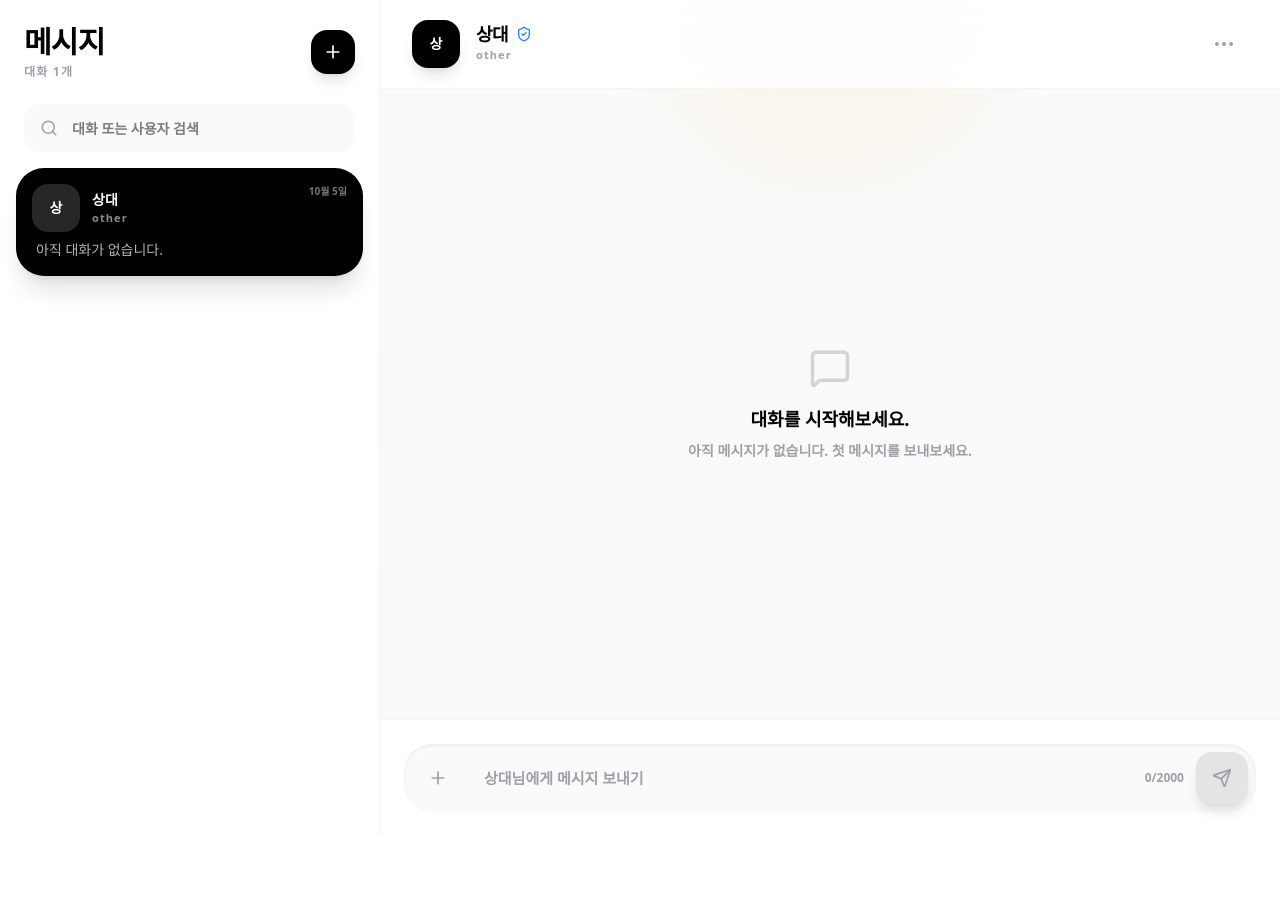
Scenario: MessagesPage 낙관적 전송 › 보내는 즉시 임시 메시지를 보여주고 연속 전송은 순서대로 하나씩 보낸다
The width and height of the screenshot is (1280, 900).
Type "첫째" into the field with placeholder "상대님에게 메시지 보내기" at (804, 778), box [476,767,1133,789]
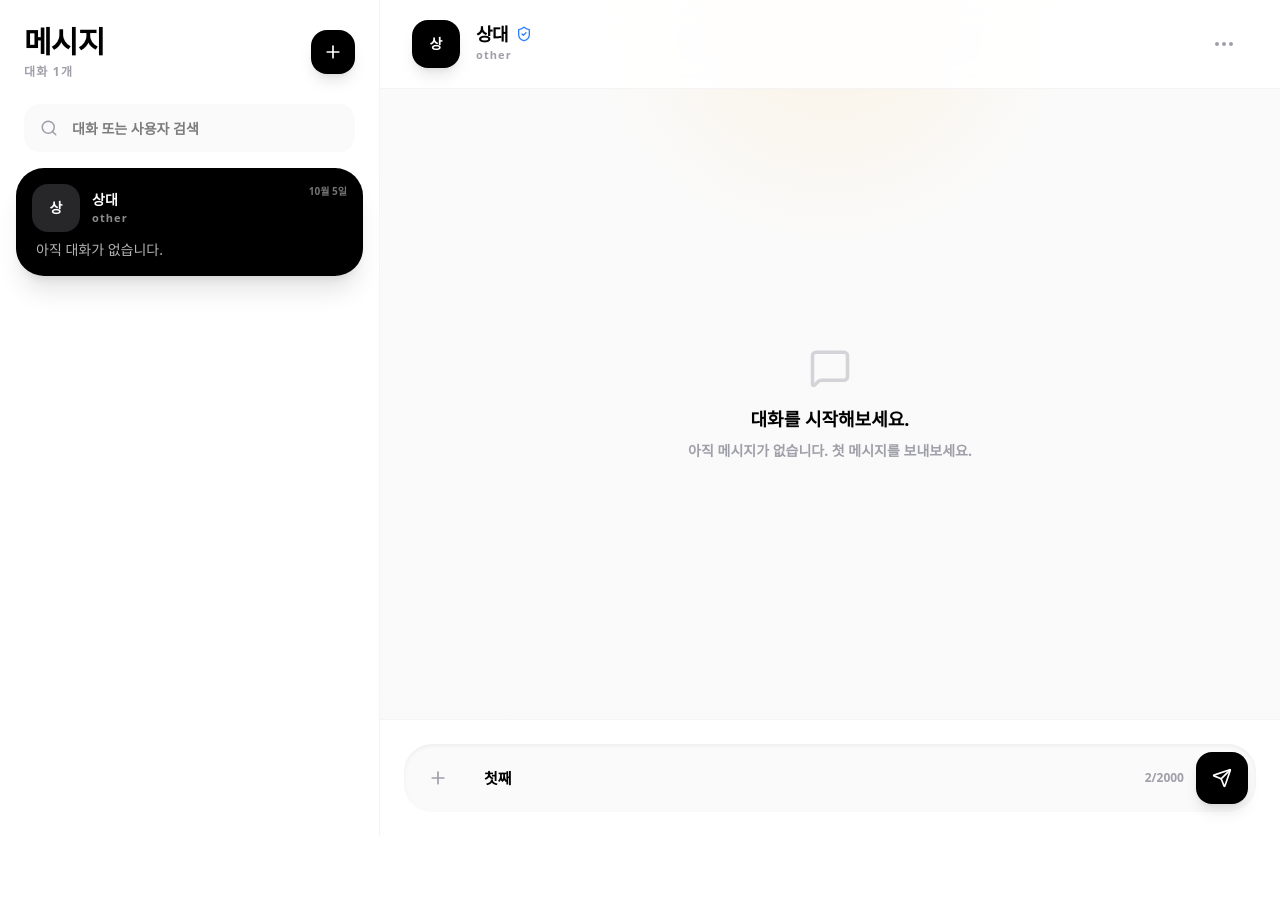
Click the button named "메시지 전송" at (1222, 778), box [1196,752,1248,804]
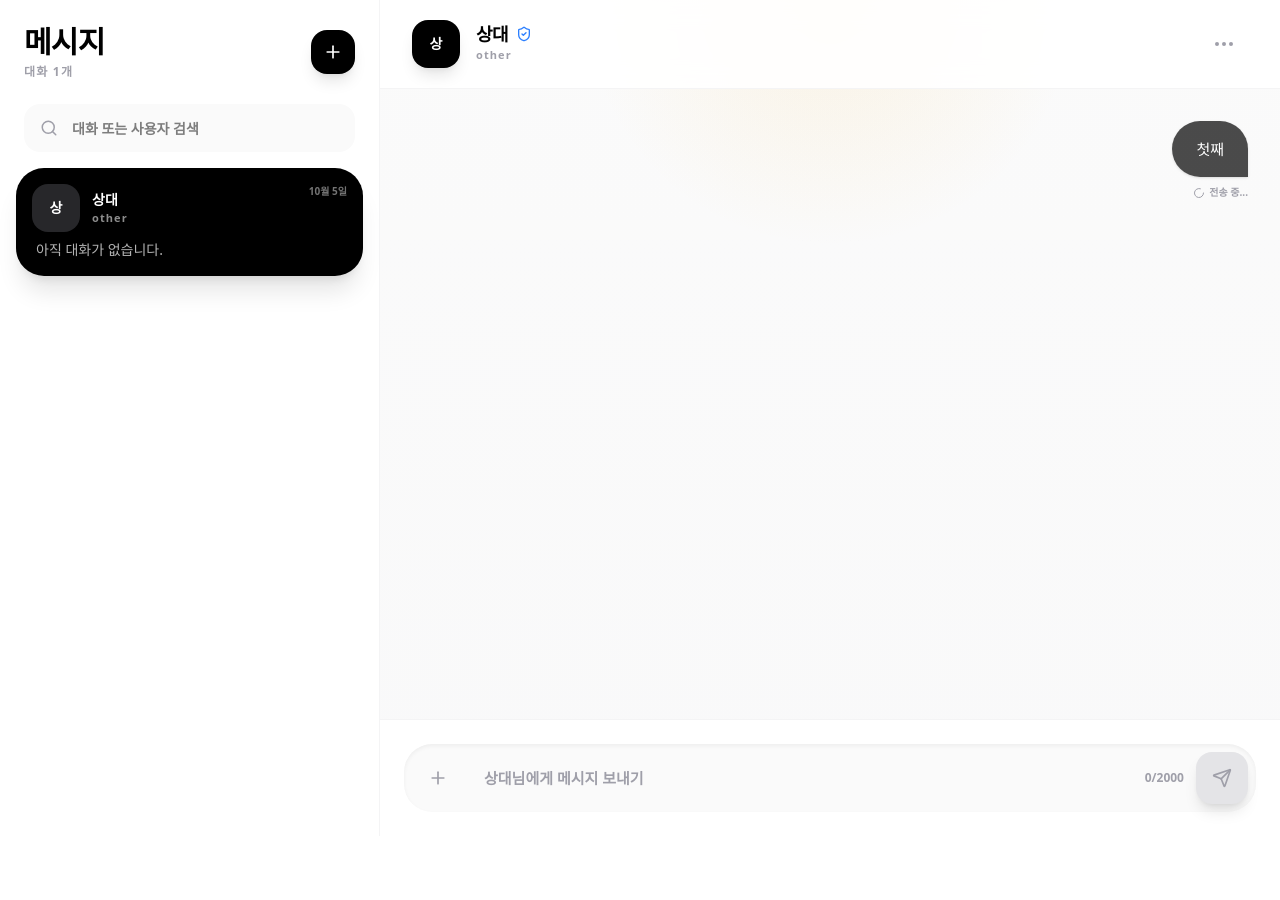
expect the field with placeholder "상대님에게 메시지 보내기" is empty: met
expect the text "첫째" is shown: met, box [1196,137,1224,161]
expect the text "전송 중..." is shown: met, box [1209,185,1248,200]
Type "둘째" into the field with placeholder "상대님에게 메시지 보내기" at (804, 778), box [476,767,1133,789]
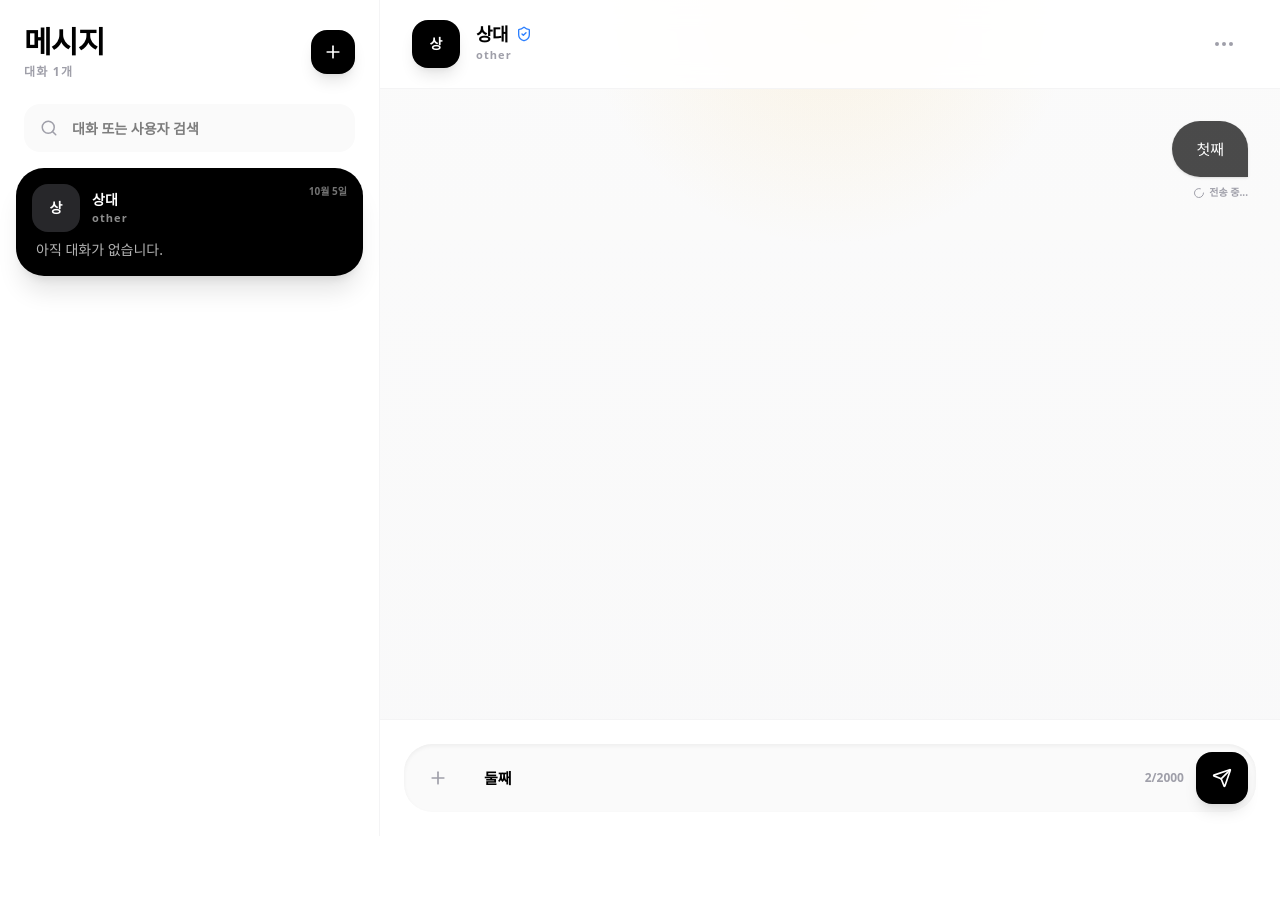
Click the button named "메시지 전송" at (1222, 778), box [1196,752,1248,804]
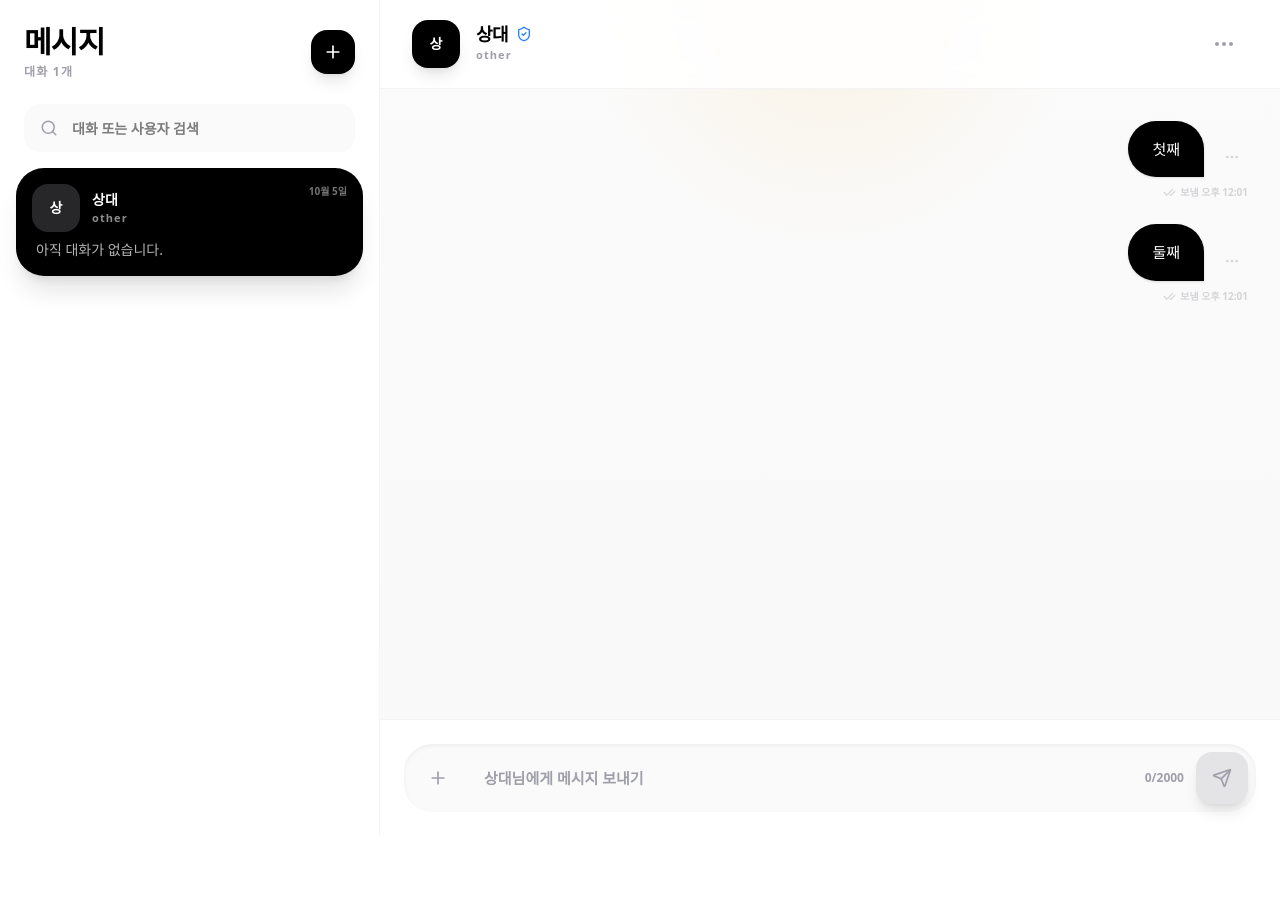
expect the text "전송 중..." is gone: met
expect the text "첫째" is shown once: met, box [1152,137,1180,161]
expect the text "둘째" is shown once: met, box [1152,240,1180,265]
